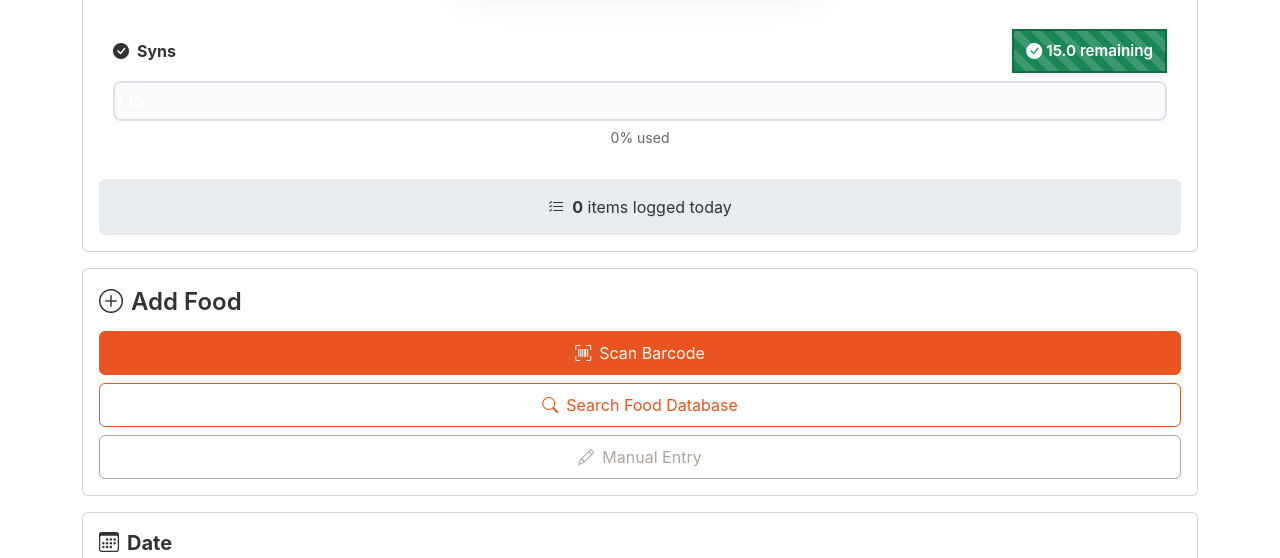
CalorieTracker Component › Food Entry Form › has required input fields
Click the button "Manual Entry".
click(640, 457)  # box [99,435,1181,479]
(page scrolled)
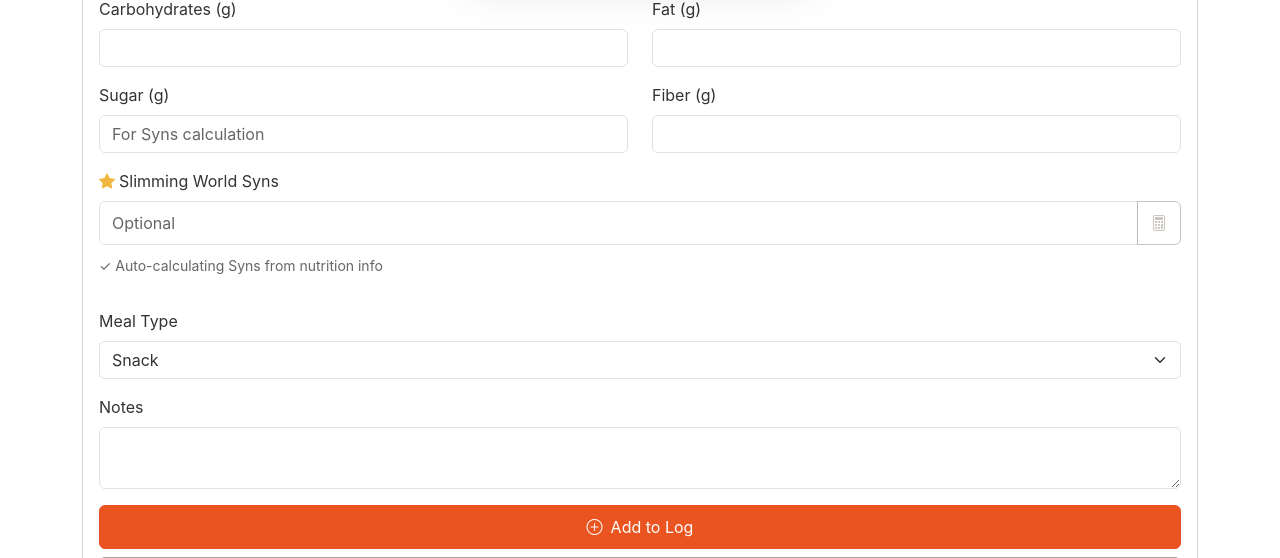
Result: the dropdown named "mealType" is shown at [99,341,1181,379]
Result: the number field named "slimmingWorldSyns" is shown at [99,201,1138,245]
